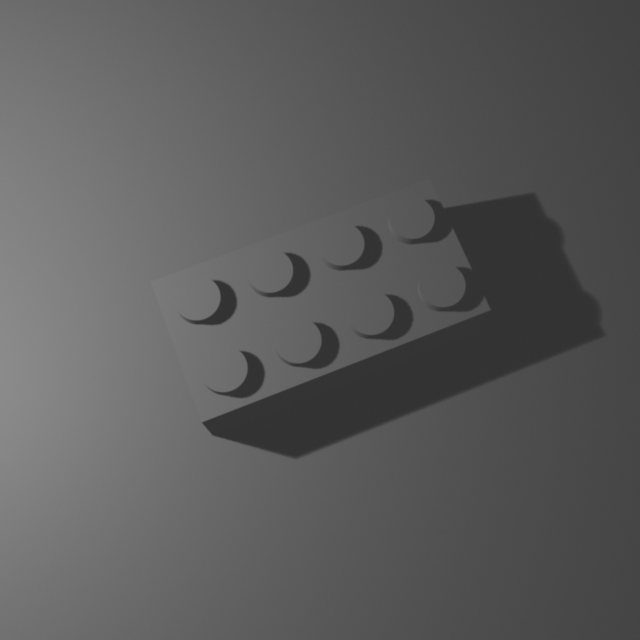lego_2x4: (148, 172, 494, 436)
